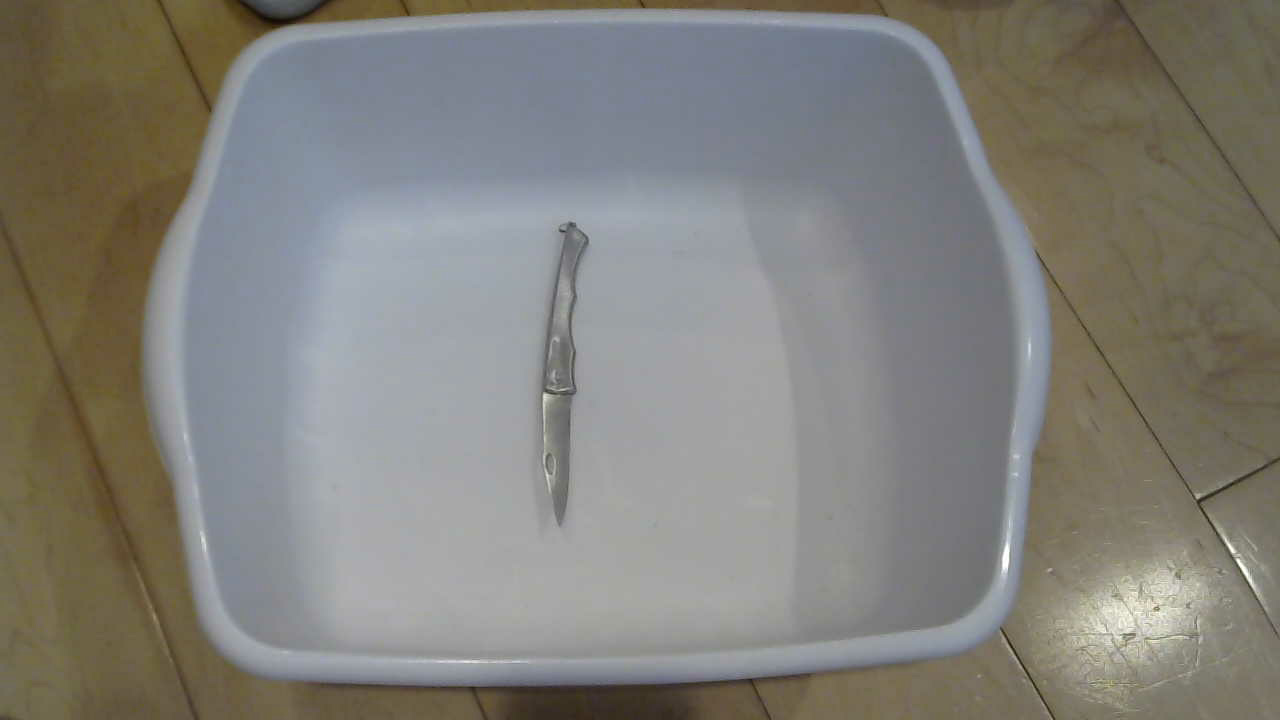knife: (521, 209, 597, 542)
